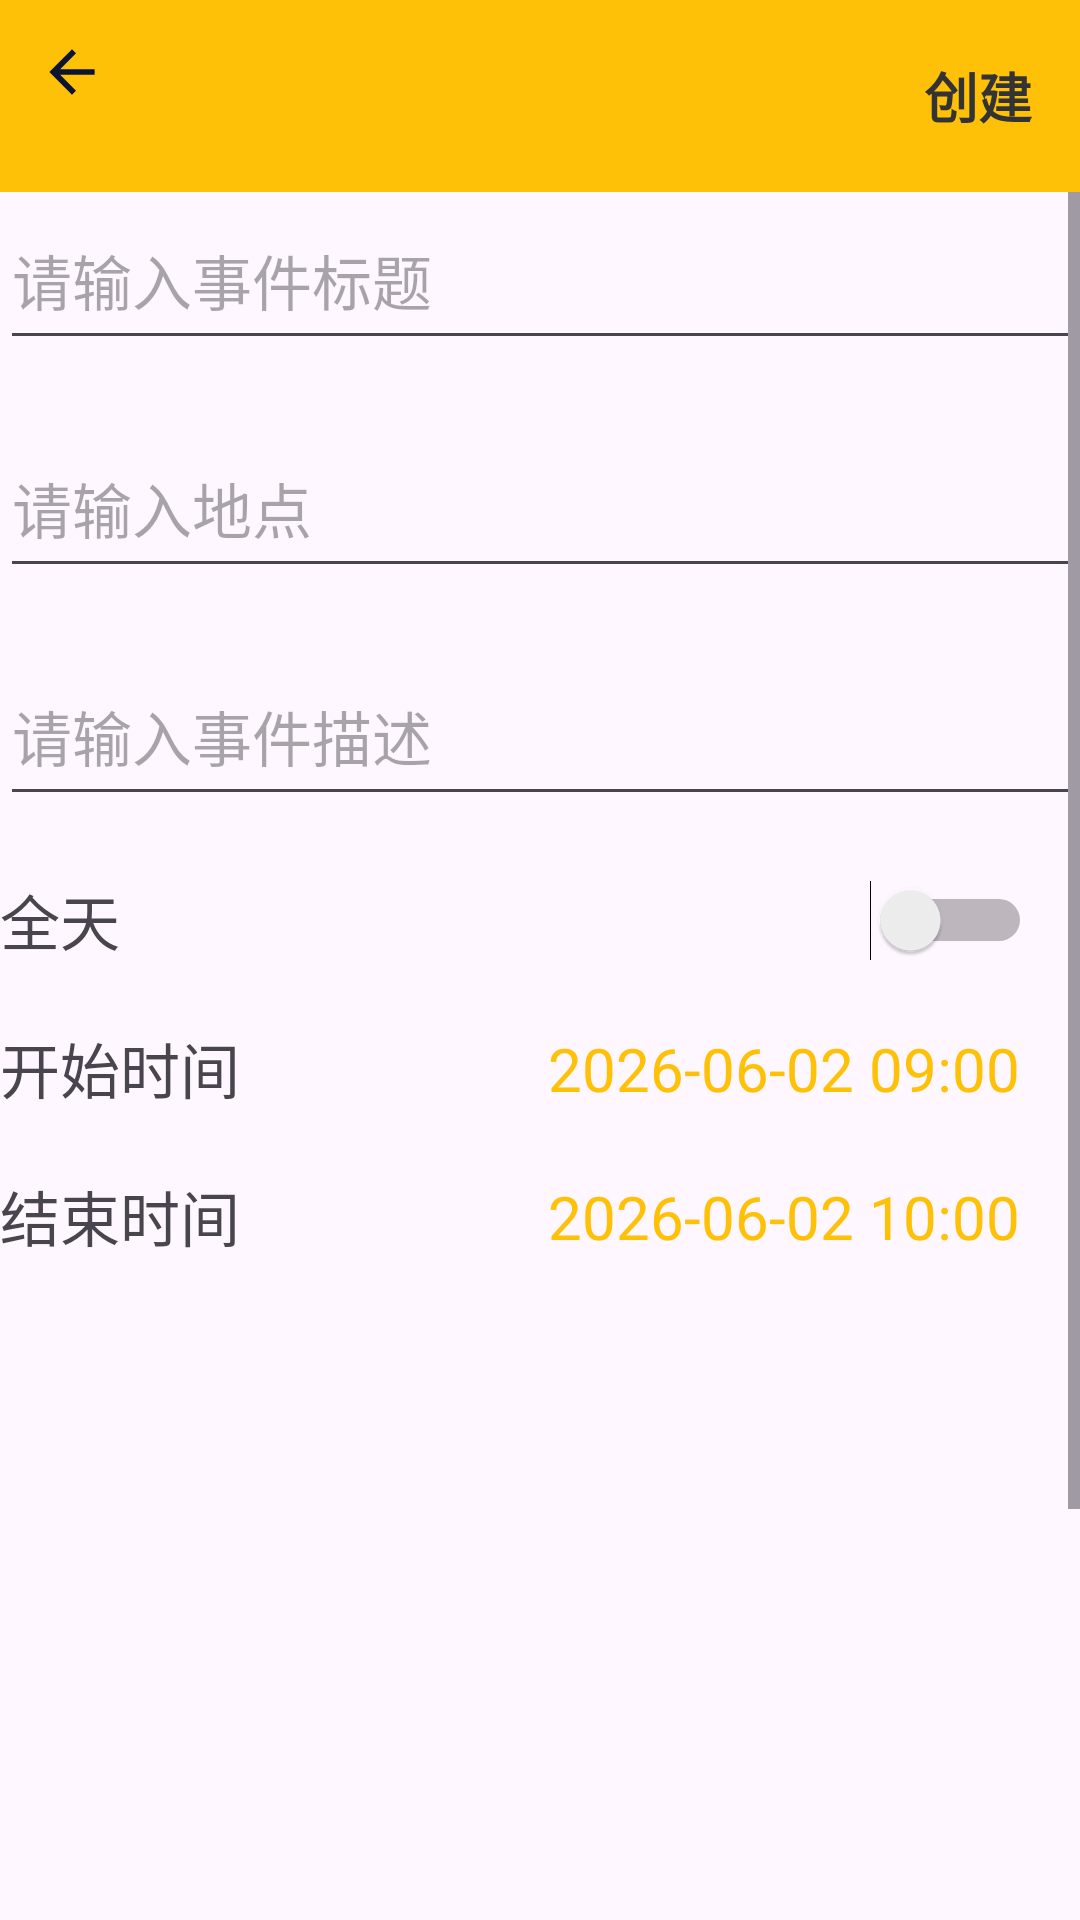

Screen size 1080x1920. Icon name, then its box in pixels as (x1, y1, x2, y2):
arrow back: (49, 49, 95, 95)
